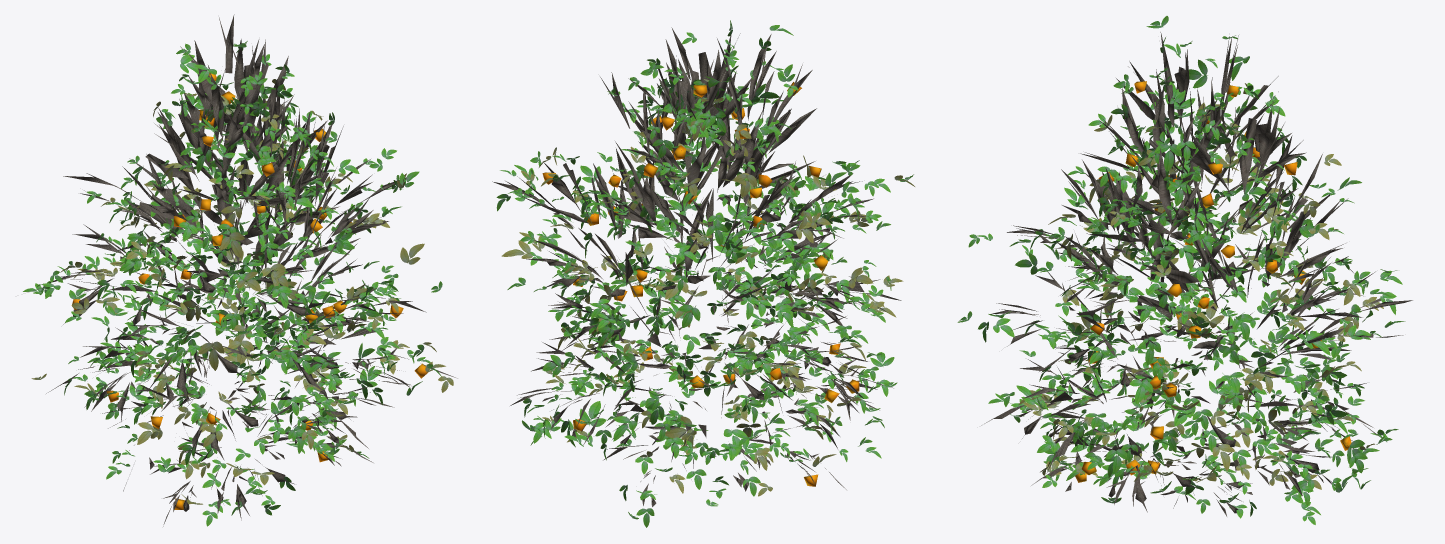
File: tree-orange.glb
3 renders of one model, left to right at view 1: azimuth 30°, elevation 25°; view 2: azimuth 150°, elevation 25°; view 3: azimuth 270°, elevation 25°, orthographic. The views are drawn at different scales.
Visible parts, largest first — view 1: tree-orange; view 2: tree-orange; view 3: tree-orange.
Part boxes in pixels (x1,y1,x2,y2): tree-orange: (23,14,457,526); tree-orange: (492,20,914,527); tree-orange: (957,16,1412,524).
Size of the model in its own units: 3.03 by 3.4 by 3.01.
Materials: 4 (4 with a texture image).
